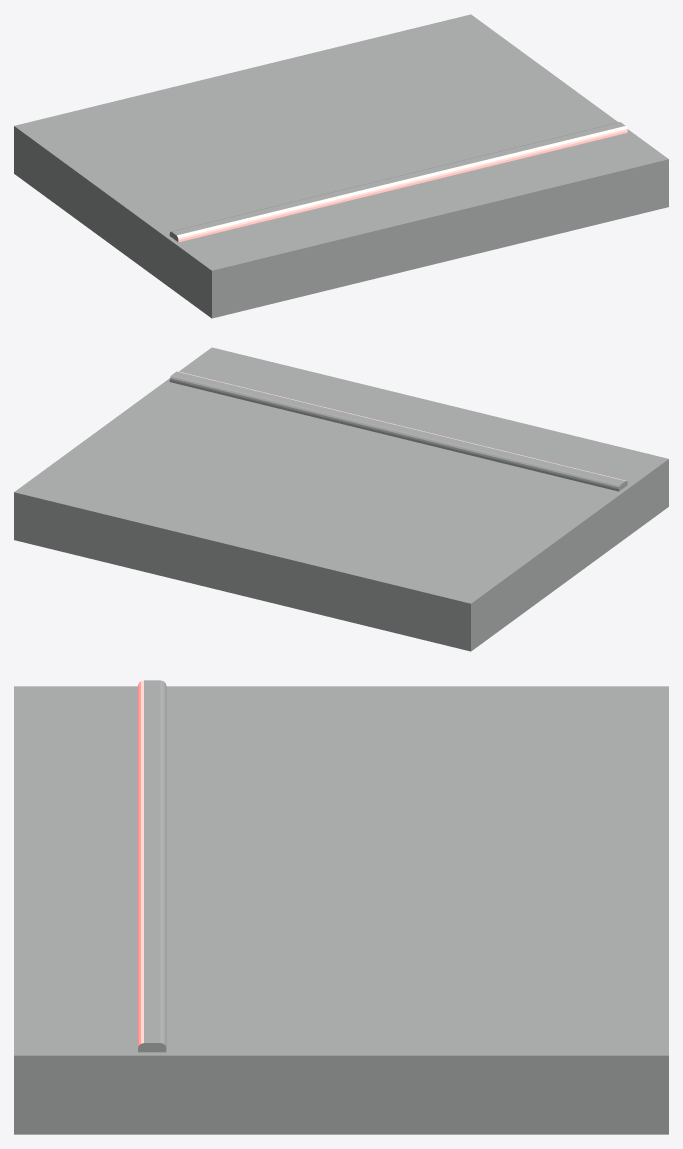
File: wall_1.fbx
The picture shows the model from 3 angles, top to bottom: view 1: azimuth 30°, elevation 25°; view 2: azimuth 150°, elevation 25°; view 3: azimuth 270°, elevation 25°; orthographic projection. The views are drawn at different scales.
Visible parts, largest first — view 1: wall_0; view 2: wall_0; view 3: wall_0.
Boxes of the visible parts, bbox=[...] form: wall_0: bbox=[14, 14, 668, 318]; wall_0: bbox=[14, 347, 668, 651]; wall_0: bbox=[14, 680, 668, 1134].
Bounding box in the file's own units: 400 × 44.68 × 300.
